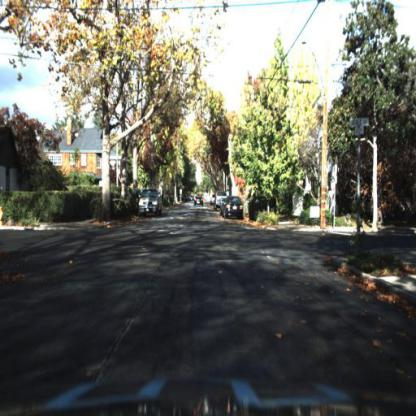car: (137, 186, 166, 221), (222, 195, 246, 222), (213, 189, 225, 212), (192, 194, 206, 211)
